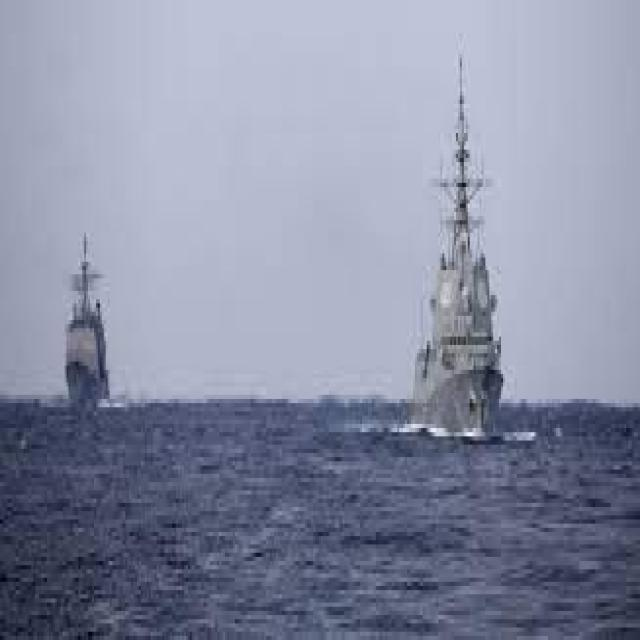navalvessels: (400, 61, 514, 431), (57, 237, 113, 397)
